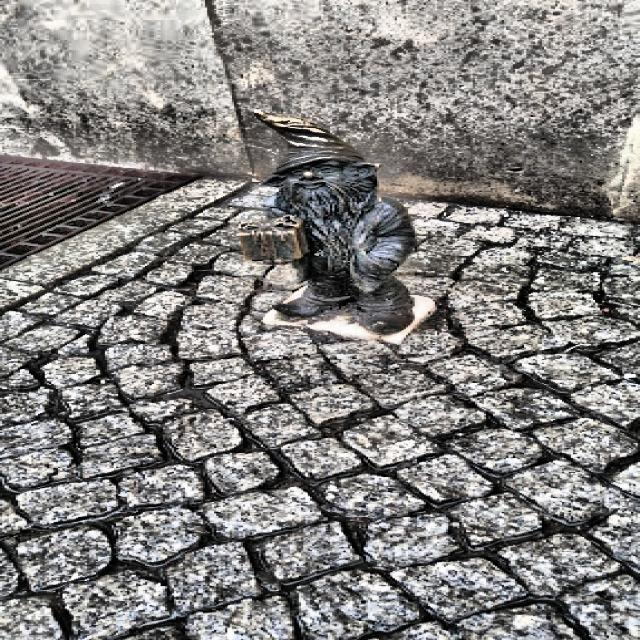Suvenirek: (240, 111, 415, 334)
